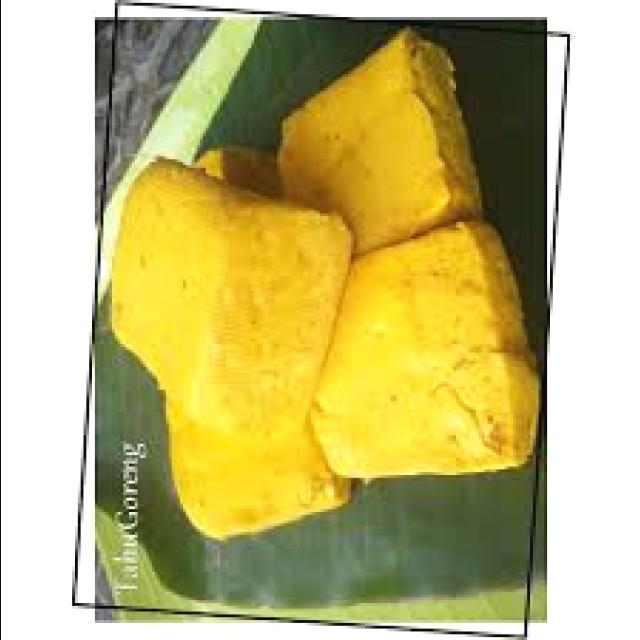tahu goreng: (111, 162, 353, 441), (310, 219, 540, 481)
